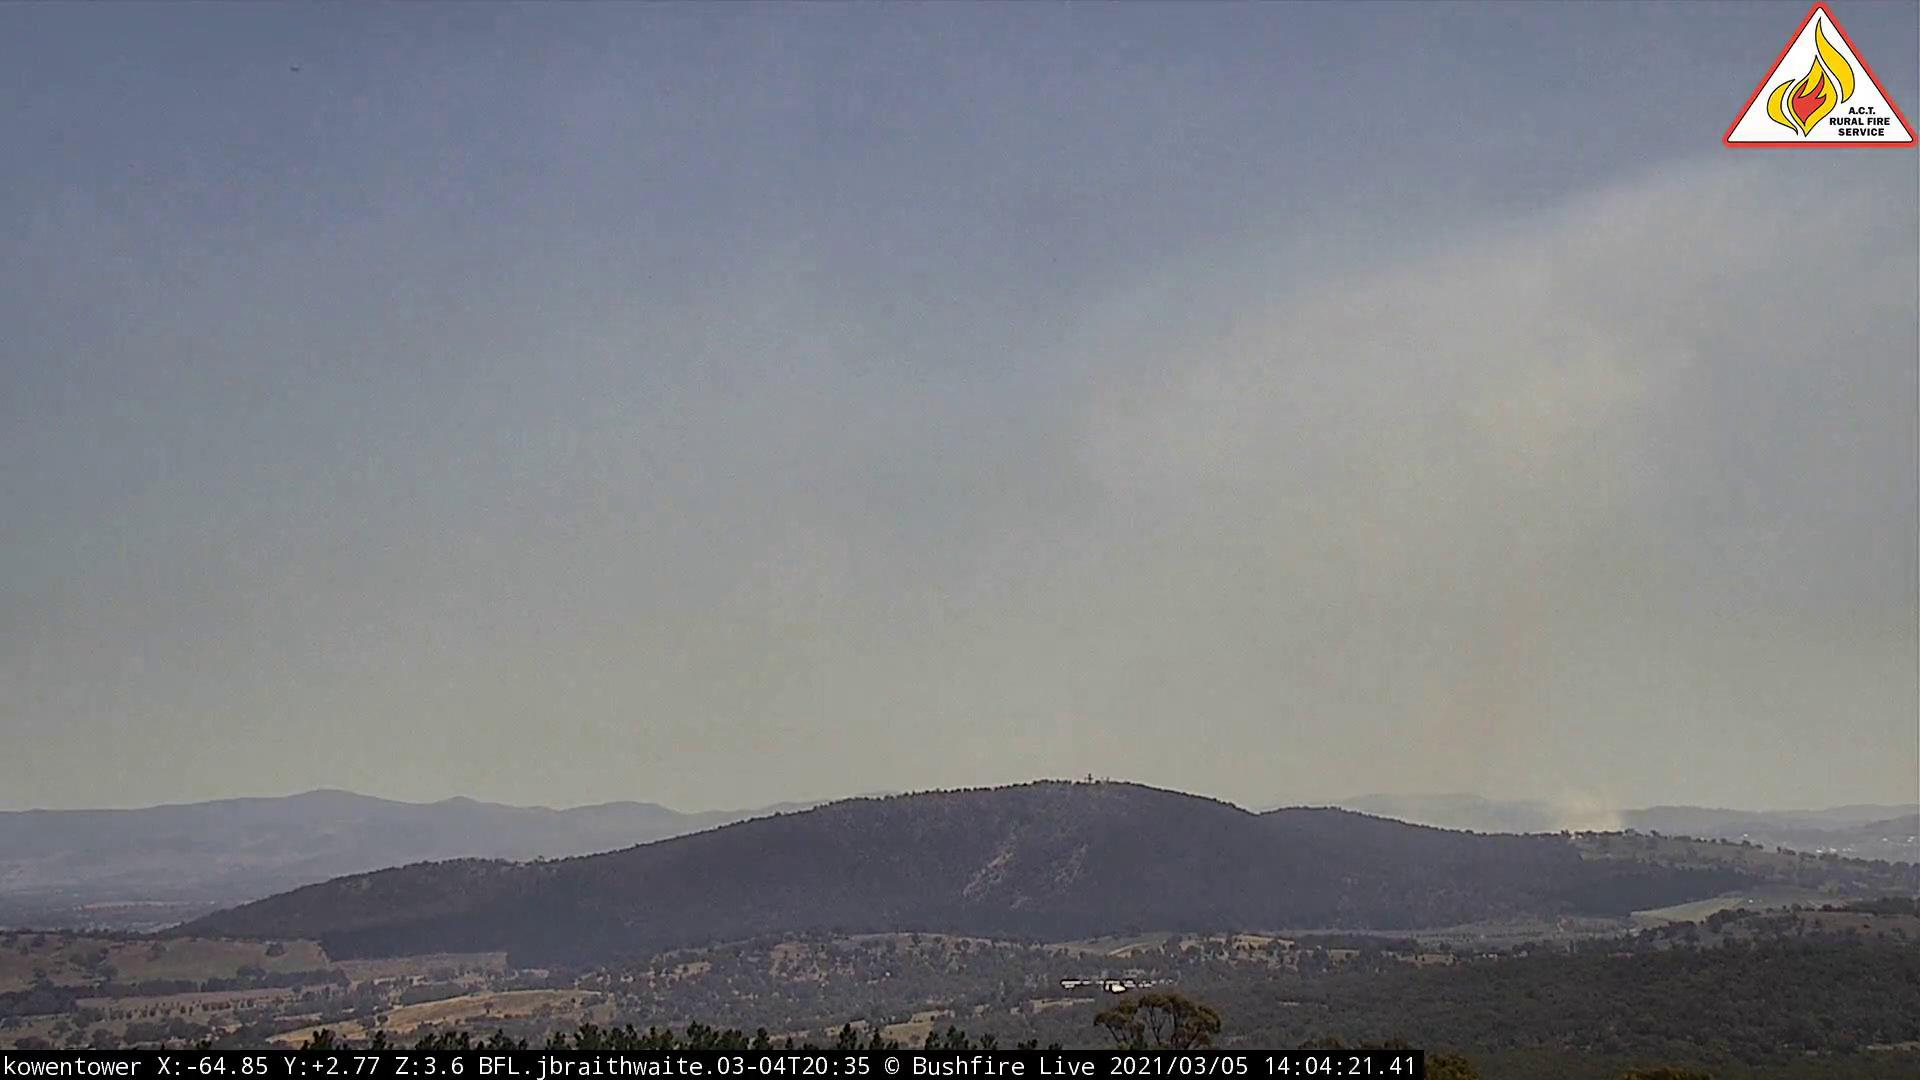instance_salient_object: (1333, 512, 1658, 839)
